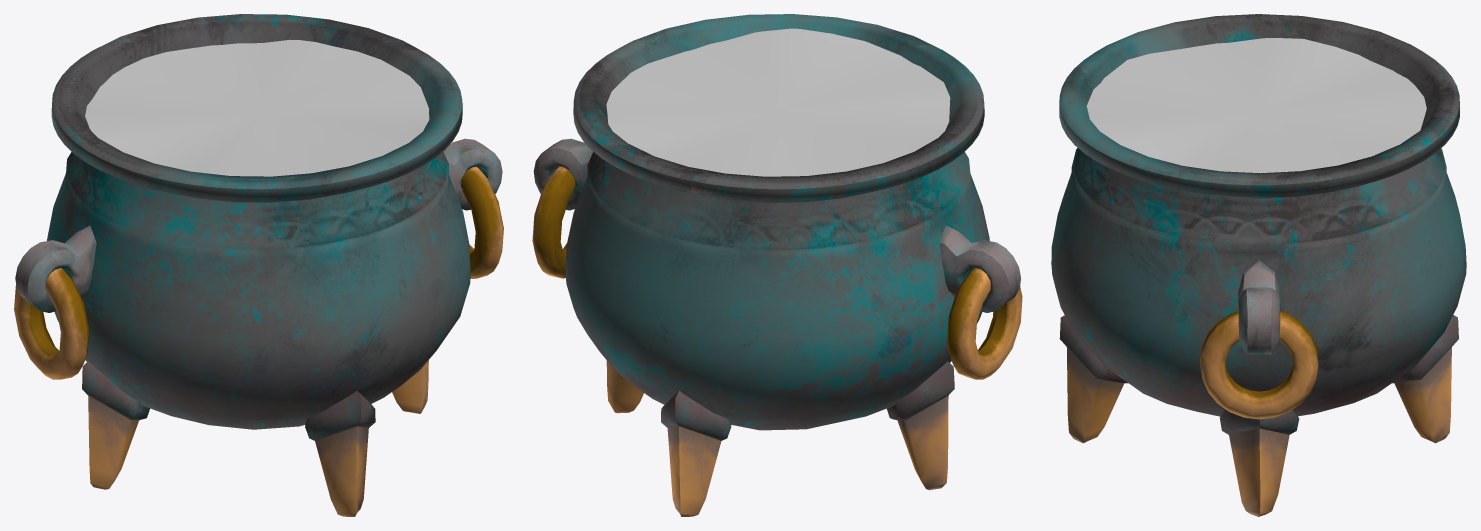
File: SM_Potion_Props_Pot_01_C.fbx
3 renders of one model, left to right at view 1: azimuth 30°, elevation 25°; view 2: azimuth 150°, elevation 25°; view 3: azimuth 270°, elevation 25°, orthographic. The views are drawn at different scales.
Visible parts, largest first — view 1: SM_Potion_Props_Pot_01_C_LOD0; view 2: SM_Potion_Props_Pot_01_C_LOD0; view 3: SM_Potion_Props_Pot_01_C_LOD0.
Part boxes in pixels (x1,y1,x2,y2): SM_Potion_Props_Pot_01_C_LOD0: [14, 14, 503, 516]; SM_Potion_Props_Pot_01_C_LOD0: [532, 14, 1022, 516]; SM_Potion_Props_Pot_01_C_LOD0: [1051, 14, 1466, 516].
Size of what is drawn, in the model's own units: 125 by 88.64 by 97.18.
